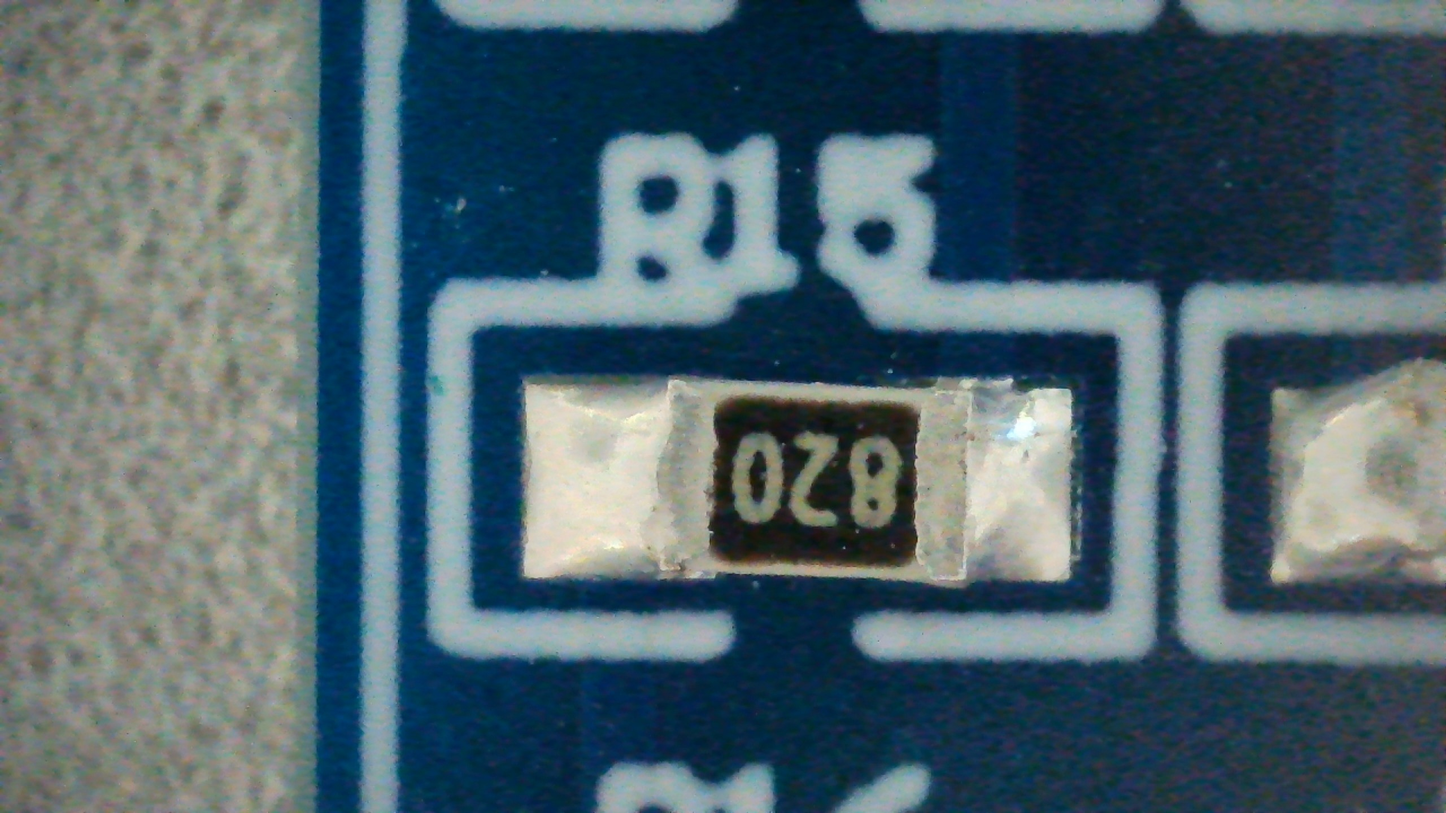OK: (524, 376, 1072, 588)
